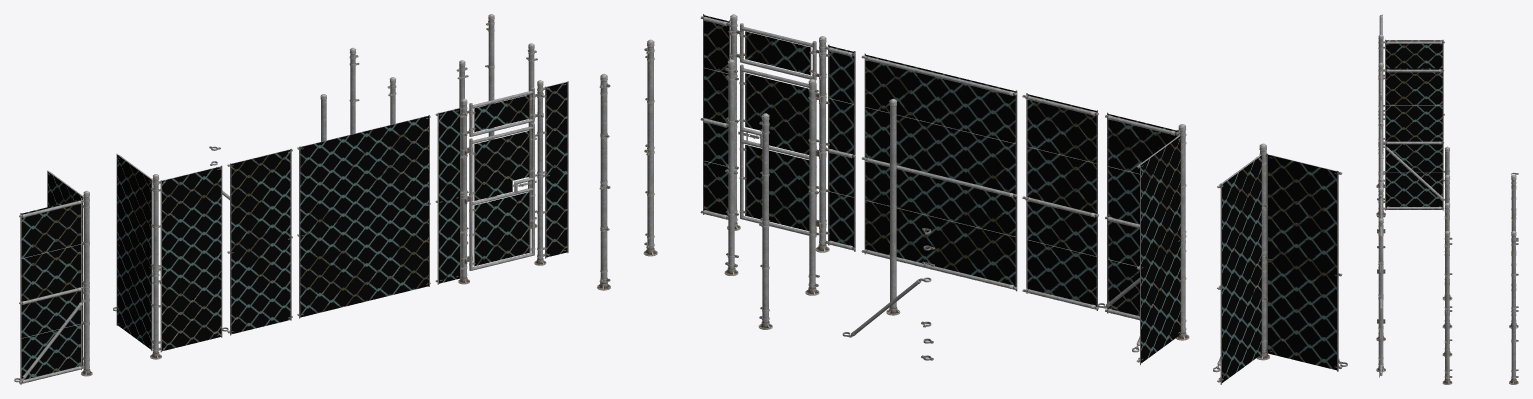
Rendered from construction_fence.glb.
The picture shows the model from 3 angles, left to right: view 1: azimuth 30°, elevation 25°; view 2: azimuth 150°, elevation 25°; view 3: azimuth 270°, elevation 25°; orthographic projection. The views are drawn at different scales.
Parts seen in each view (by area): view 1: construction_fence; view 2: construction_fence; view 3: construction_fence.
Part boxes in pixels (<box>): construction_fence: <box>14,14,568,384</box>; construction_fence: <box>597,14,1347,384</box>; construction_fence: <box>1376,14,1518,384</box>.
Bounding box in the file's own units: 5.15 × 1.6 × 1.36.
Materials: 2 (2 with a texture image).
